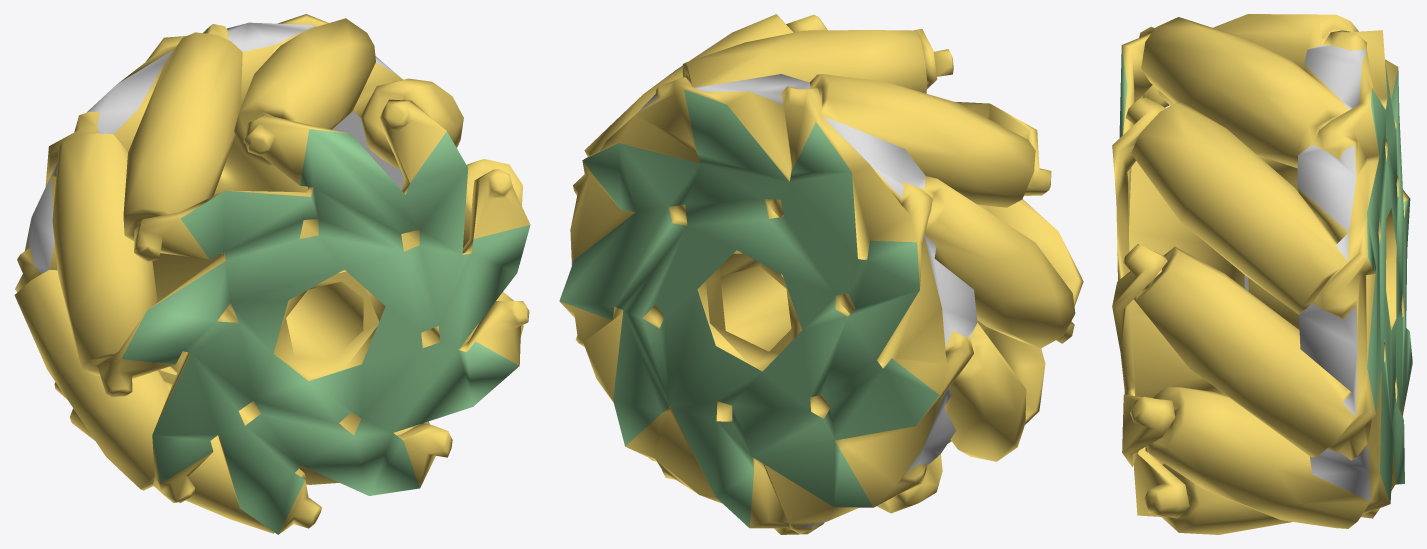
The model's file is mec-right-dec.fbx.
3 renders of one model, left to right at view 1: azimuth 30°, elevation 25°; view 2: azimuth 150°, elevation 25°; view 3: azimuth 270°, elevation 25°, orthographic. The views are drawn at different scales.
Parts seen in each view (by area): view 1: Body3, Body2; view 2: Body3; view 3: Body3.
Part boxes in pixels (<box>): Body3: <box>14,14,530,534</box>; Body2: <box>332,111,381,163</box>; Body3: <box>559,14,1083,534</box>; Body3: <box>1112,14,1412,534</box>.
Bounding box in the file's own units: 10.07 × 10.04 × 5.78.
